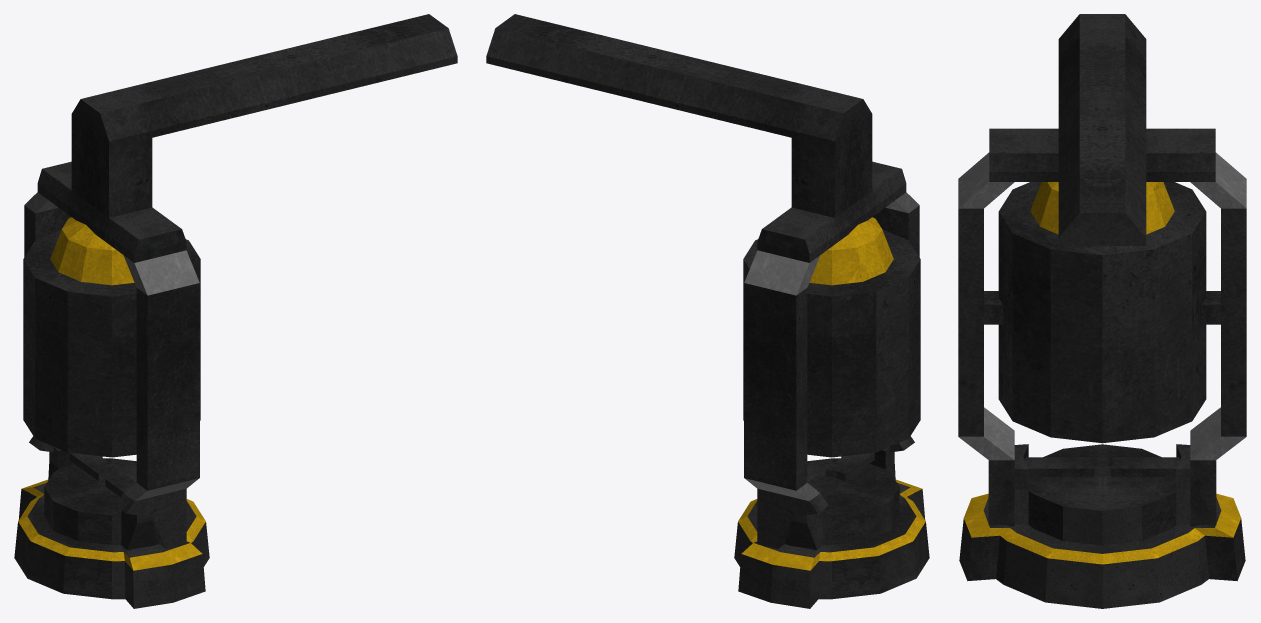
The model's file is Machine2.fbx.
3 renders of one model, left to right at view 1: azimuth 30°, elevation 25°; view 2: azimuth 150°, elevation 25°; view 3: azimuth 270°, elevation 25°, orthographic. The views are drawn at different scales.
Visible parts, largest first — view 1: Cube, Cylinder.004, Machine2; view 2: Cube, Cylinder.004, Machine2; view 3: Cube, Cylinder.004, Machine2.
Part boxes in pixels (x1,y1,x2,y2): Cube: (24,14,457,549); Cylinder.004: (23,217,200,457); Machine2: (14,447,209,608); Cube: (486,14,919,549); Cylinder.004: (743,217,920,457); Machine2: (734,447,929,608); Cube: (958,14,1246,526); Cylinder.004: (998,182,1206,443); Machine2: (959,444,1245,608).
Bounding box in the file's own units: 535 × 568 × 278.
Materials: 1 (1 with a texture image).
